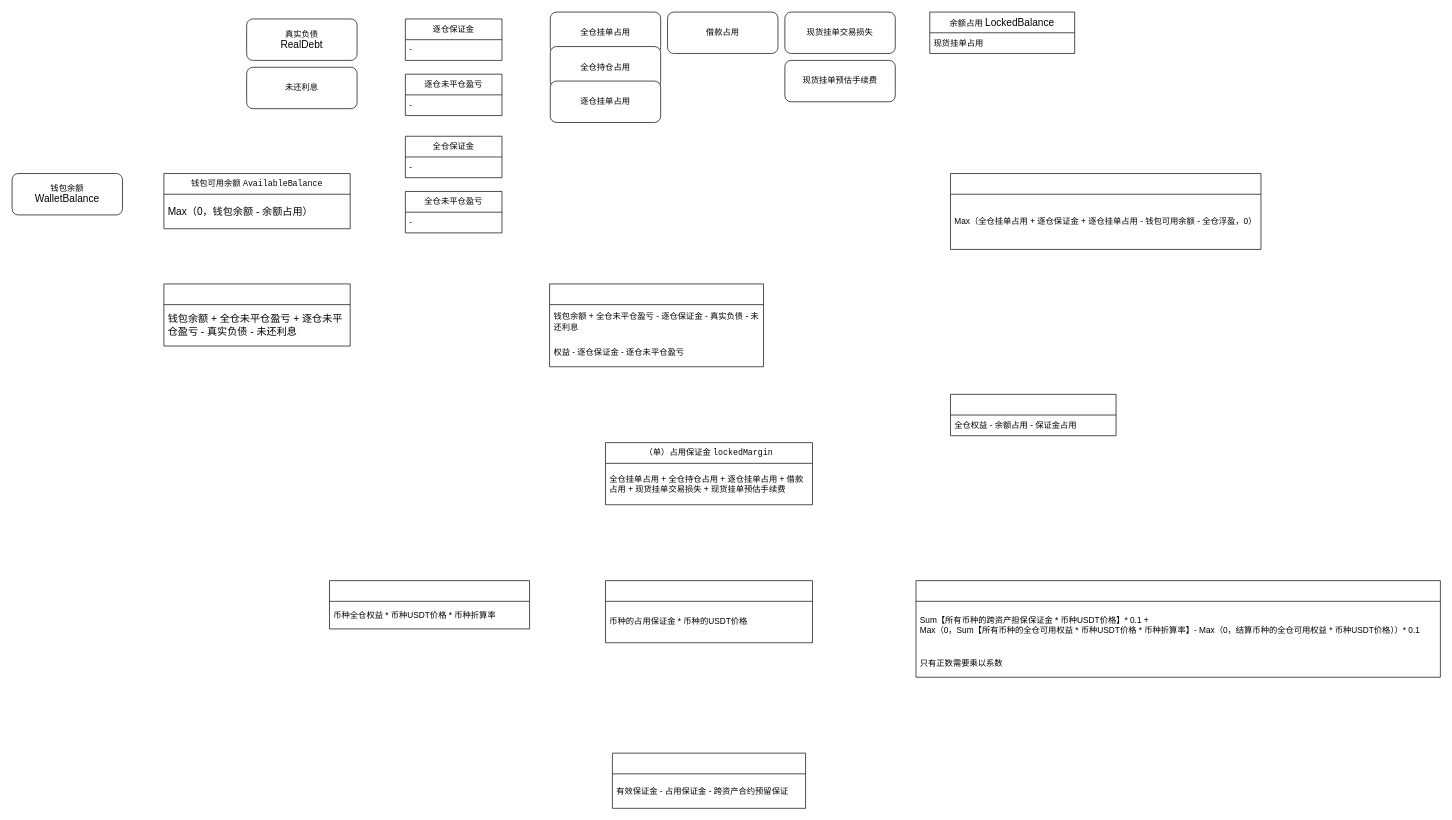
Some shapes in this 1452 by 820 pixel diagram are drawn without their labels. The shapes that lost their labels are listed below. From the top down, each one's box as (x1, y1, x2, y2) in pixels, then its label:
(950, 173, 1261, 249): 跨资产担保保证金 LockedMarginBackedByOtherAssets
(163, 283, 350, 346): 权益 equity
(549, 283, 763, 367): 全仓权益 SharedEquity
(950, 394, 1116, 436): 全仓可用权益 AvailableEquity
(329, 580, 530, 629): 有效保证金 effectiveMargin
(605, 580, 812, 643): （总）占用保证金 lockedMargin
(915, 580, 1440, 677): 跨资产合约预留保证金 ReservedMarginForPerp
(612, 752, 806, 808): 合约可用保证金 availableMarginForPerp
